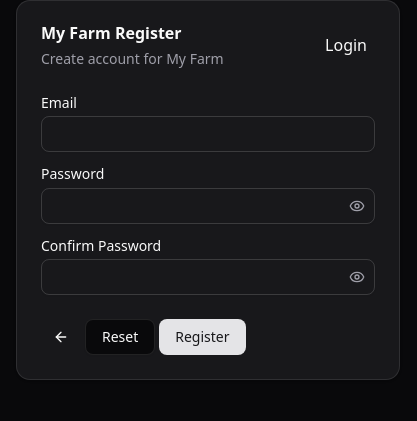
Test: Reg Form Tests › check email Error
Type "hello" into the field labelled "Email". click: (208, 134)
box: [41, 116, 375, 152]
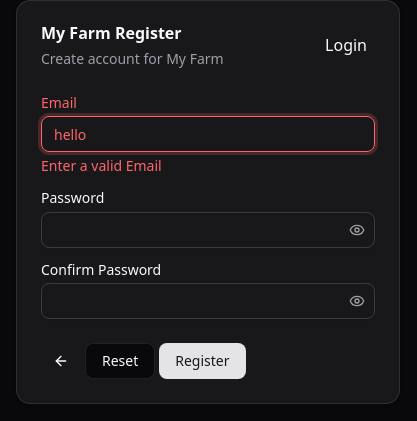
Result: the text "Enter a valid Email" is shown at [41, 156, 162, 175]
Type "test@test.com" into the field labelled "Email". click: (208, 134)
box: [41, 116, 375, 152]
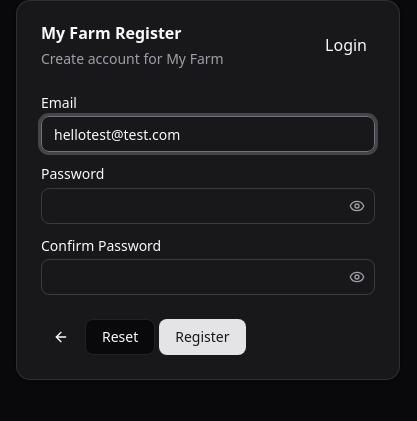
Result: the text "Enter a valid Email" is gone
